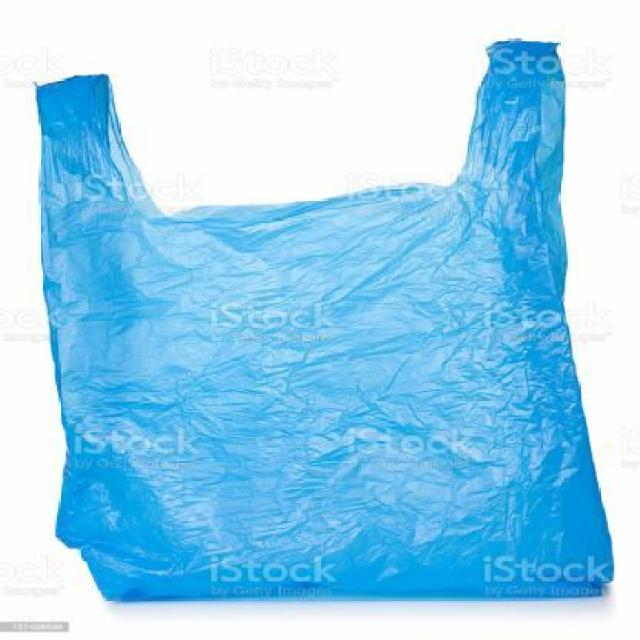plastic bag: (21, 29, 634, 605)
